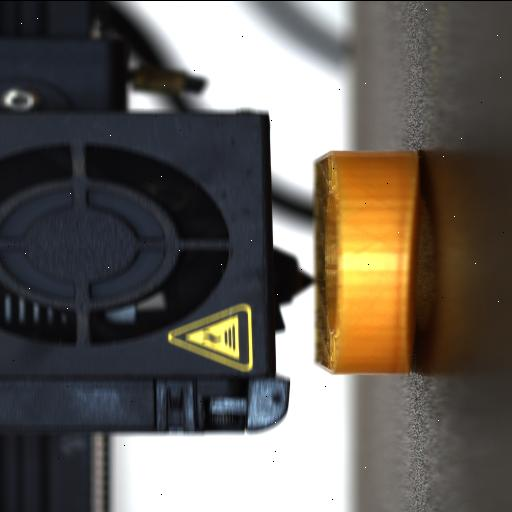warp: (401, 151, 425, 365)
